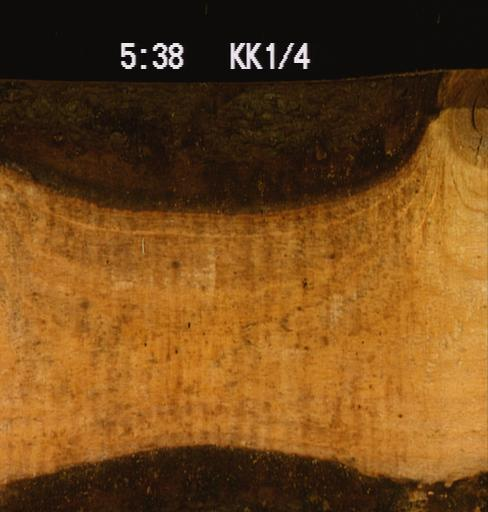sound_knot: (448, 79, 487, 165)
wave: (0, 66, 487, 213), (0, 442, 486, 511)
